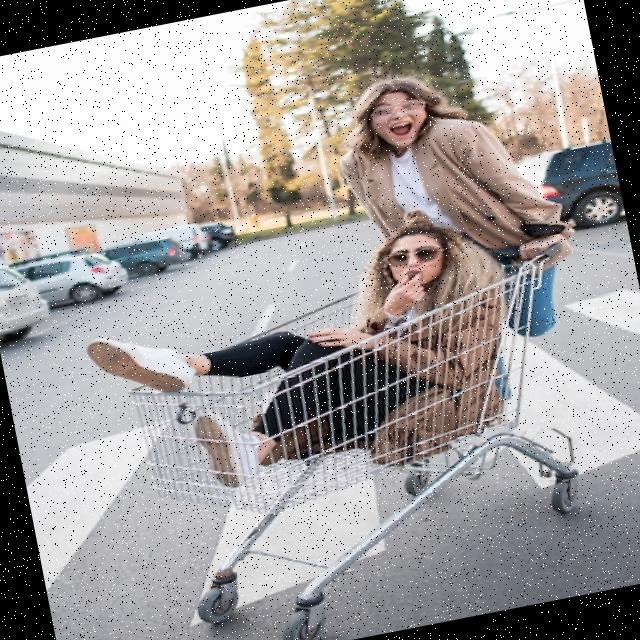Person: (74, 196, 538, 518), (321, 49, 595, 367)
